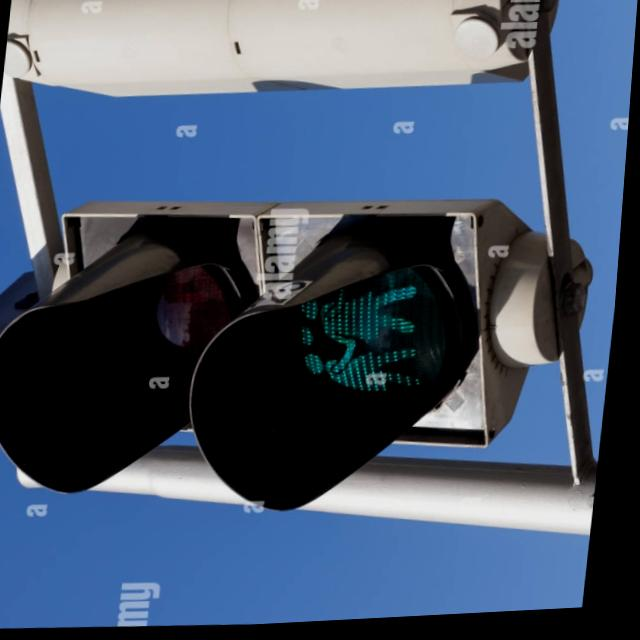green_light: (282, 266, 433, 420)
